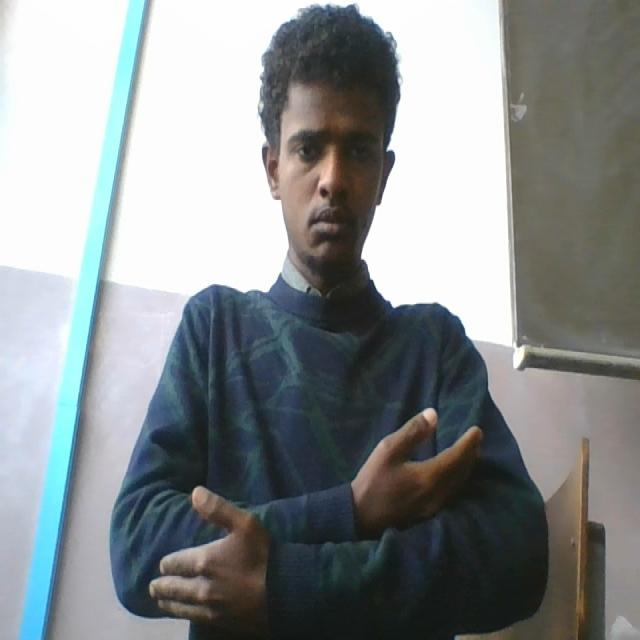lij: (144, 396, 490, 640)
